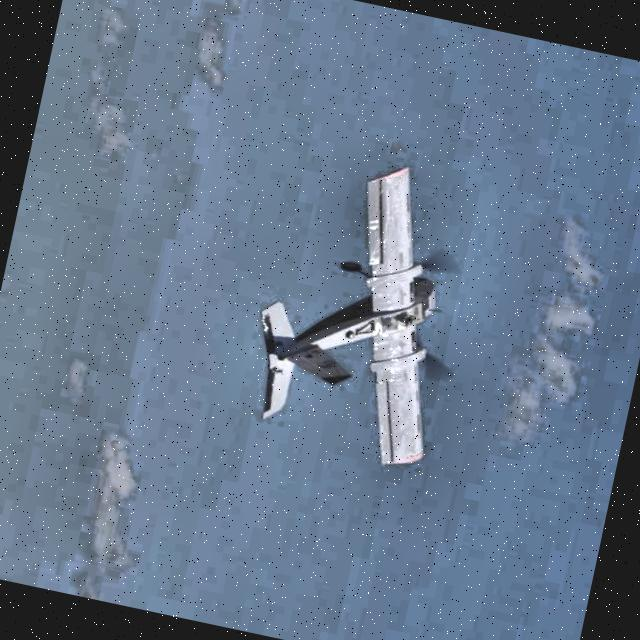iha: (222, 136, 503, 502)
